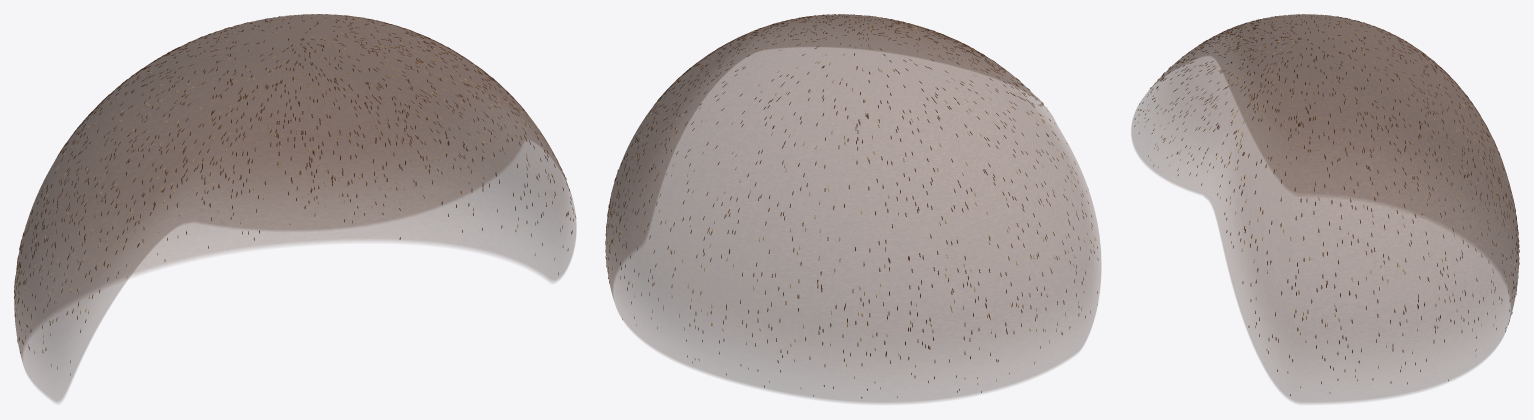
The model's file is Highlights-77ed48191ed0251-hair.glb.
3 renders of one model, left to right at view 1: azimuth 30°, elevation 25°; view 2: azimuth 150°, elevation 25°; view 3: azimuth 270°, elevation 25°, orthographic. The views are drawn at different scales.
Visible parts, largest first — view 1: 226 hair / Hair / clipped grain251.001, 226 hair / Hair / close cut strokes251.001; view 2: 226 hair / Hair / clipped grain251.001, 226 hair / Hair / close cut strokes251.001; view 3: 226 hair / Hair / clipped grain251.001, 226 hair / Hair / close cut strokes251.001.
Boxes of the visible parts, left/top/right/bottom form: 226 hair / Hair / clipped grain251.001: left=14, top=14, right=576, bottom=402; 226 hair / Hair / close cut strokes251.001: left=14, top=14, right=575, bottom=375; 226 hair / Hair / clipped grain251.001: left=605, top=14, right=1100, bottom=403; 226 hair / Hair / close cut strokes251.001: left=605, top=14, right=1098, bottom=398; 226 hair / Hair / clipped grain251.001: left=1131, top=14, right=1518, bottom=403; 226 hair / Hair / close cut strokes251.001: left=1134, top=14, right=1519, bottom=395.
Size of the model in its own units: 0.9711 by 0.5752 by 0.7467.
2 materials, 1 textured.
